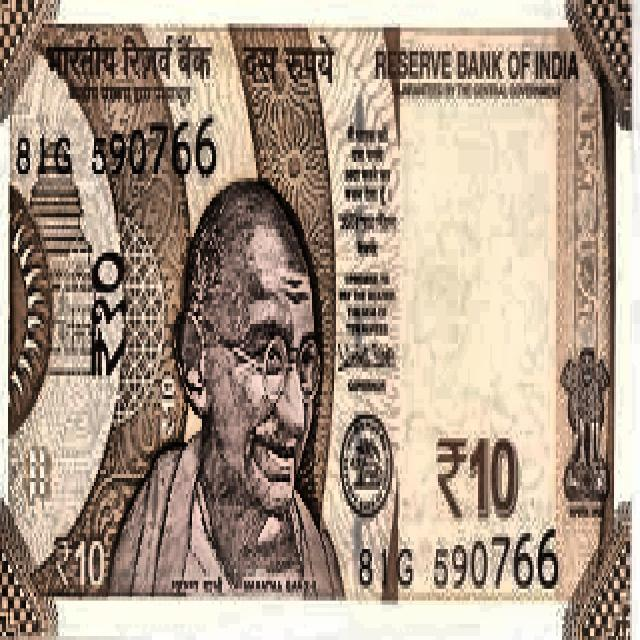-10-: (4, 0, 631, 575)
